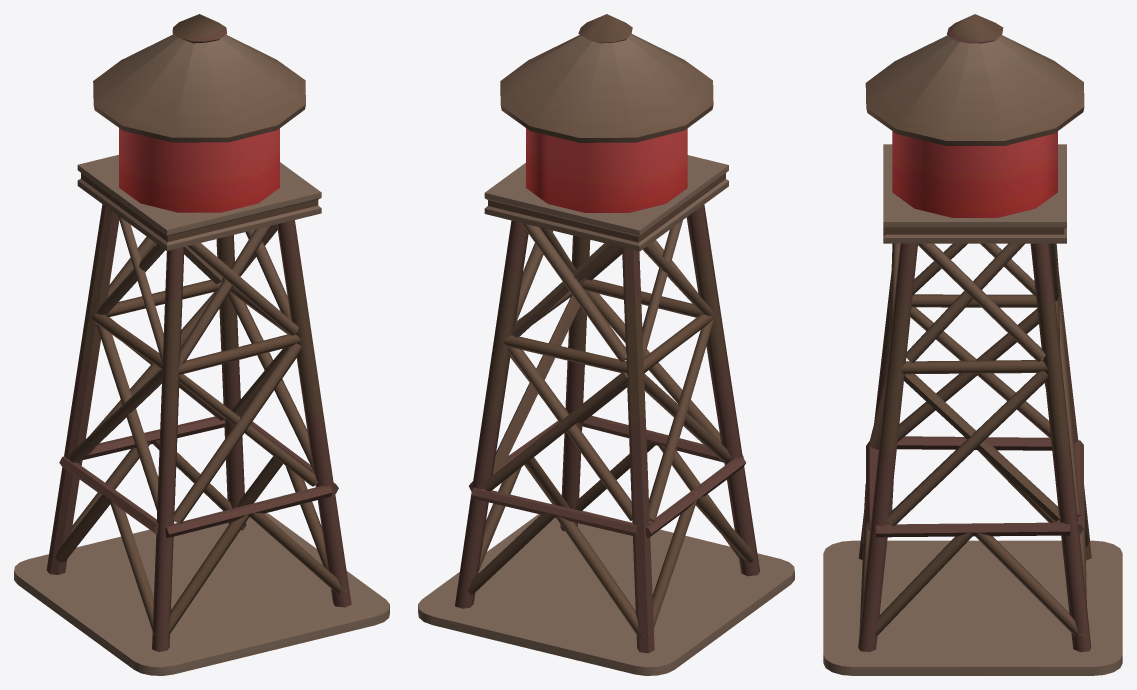
The model's file is Water Tower.fbx.
The picture shows the model from 3 angles, left to right: view 1: azimuth 30°, elevation 25°; view 2: azimuth 150°, elevation 25°; view 3: azimuth 270°, elevation 25°; orthographic projection. The views are drawn at different scales.
Visible parts, largest first — view 1: Water_Tower; view 2: Water_Tower; view 3: Water_Tower.
Part boxes in pixels (x1=…): Water_Tower: x1=14, y1=14, x2=389, y2=675; Water_Tower: x1=418, y1=14, x2=794, y2=675; Water_Tower: x1=823, y1=14, x2=1122, y2=675.
Size of the model in its own units: 273 by 601 by 273.
